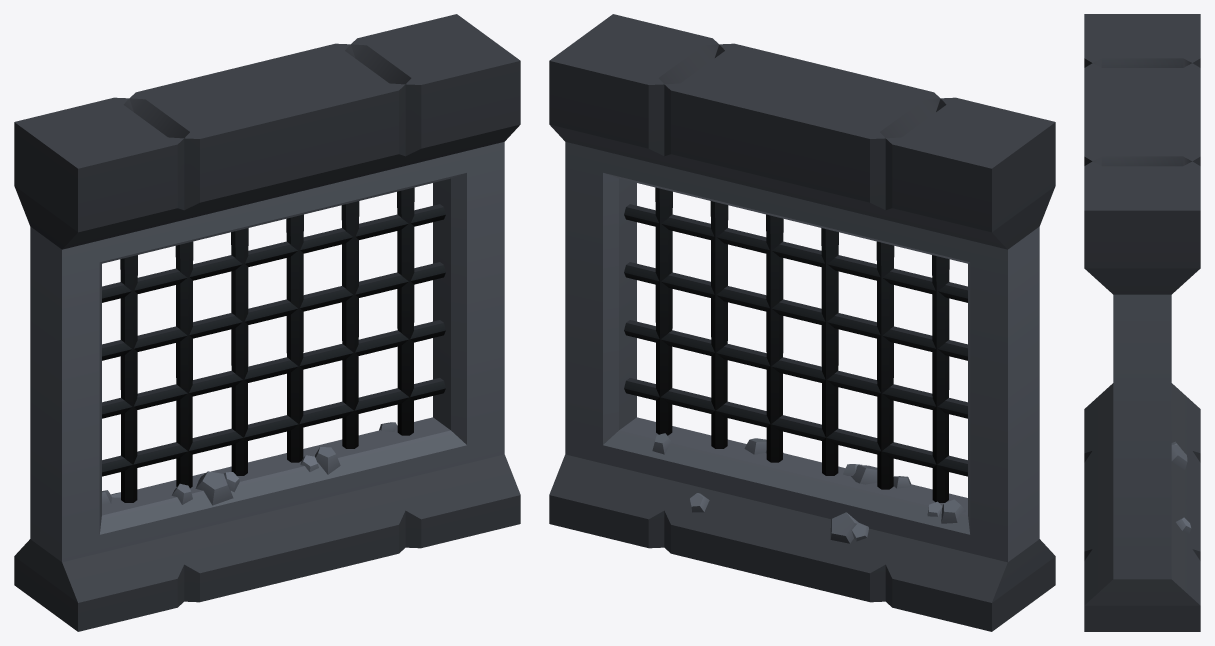
The model's file is wall_gated.glb.
3 renders of one model, left to right at view 1: azimuth 30°, elevation 25°; view 2: azimuth 150°, elevation 25°; view 3: azimuth 270°, elevation 25°, orthographic. The views are drawn at different scales.
Parts seen in each view (by area): view 1: wall_gated; view 2: wall_gated; view 3: wall_gated.
Boxes of the visible parts, x1,y1,x2,y2 form: wall_gated: (14,14,520,631); wall_gated: (549,14,1055,631); wall_gated: (1084,14,1200,631).
Size of the model in its own units: 4 by 4 by 1.
1 material, 1 textured.
